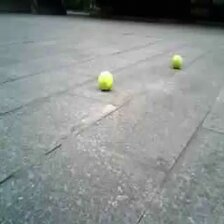tennis: (98, 71, 113, 90), (172, 54, 182, 67)
